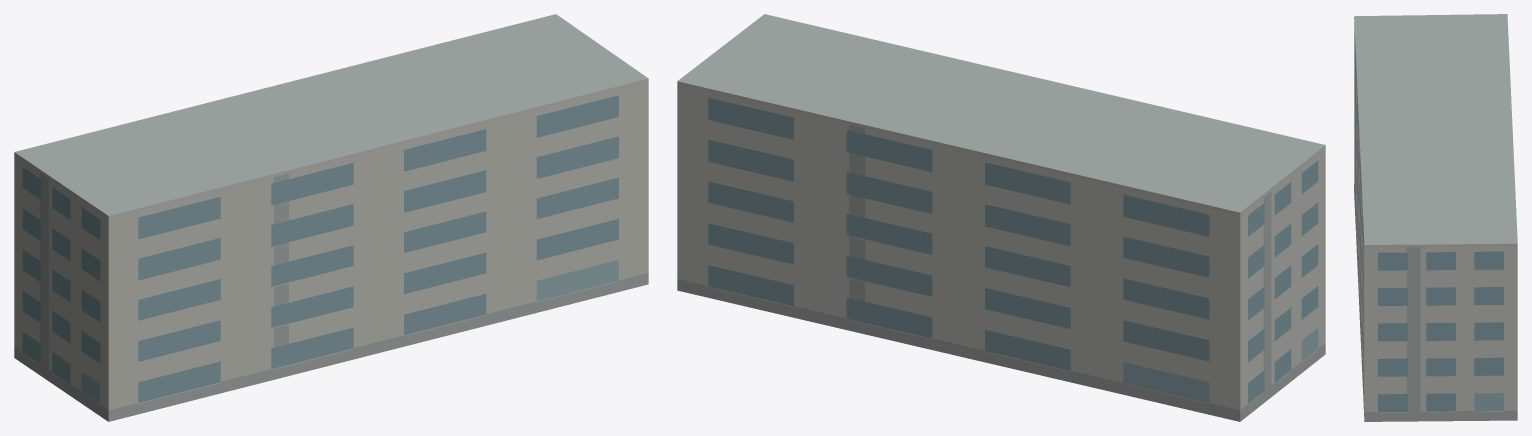
File: residential-f73ab82c-9369-4f23-8b77-92267dca2cb1.glb
3 renders of one model, left to right at view 1: azimuth 30°, elevation 25°; view 2: azimuth 150°, elevation 25°; view 3: azimuth 270°, elevation 25°, orthographic. The views are drawn at different scales.
Visible parts, largest first — view 1: residential-f73ab82c-9369-4f23-8b77-92267dca2cb1.tmp; view 2: residential-f73ab82c-9369-4f23-8b77-92267dca2cb1.tmp; view 3: residential-f73ab82c-9369-4f23-8b77-92267dca2cb1.tmp.
Boxes of the visible parts, <box> form: residential-f73ab82c-9369-4f23-8b77-92267dca2cb1.tmp: <box>14,14,648,421</box>; residential-f73ab82c-9369-4f23-8b77-92267dca2cb1.tmp: <box>677,14,1325,421</box>; residential-f73ab82c-9369-4f23-8b77-92267dca2cb1.tmp: <box>1354,14,1517,421</box>.
Size of the model in its own units: 42.73 by 15.25 by 12.79.
